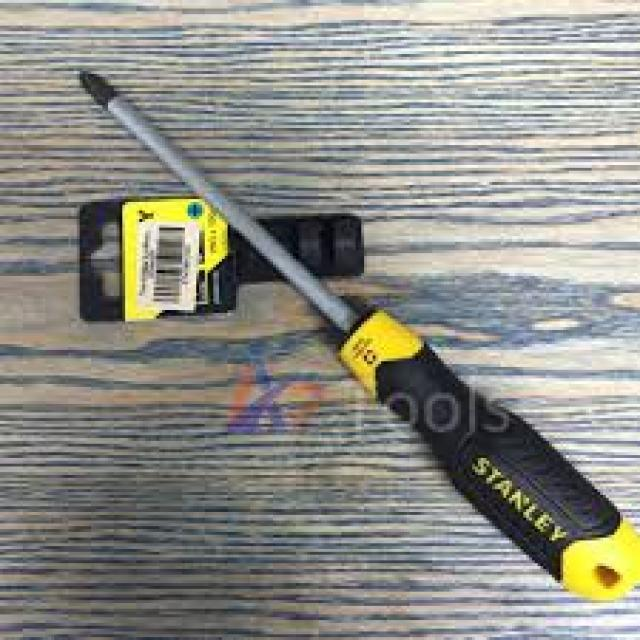screwdriver: (77, 70, 640, 604)
